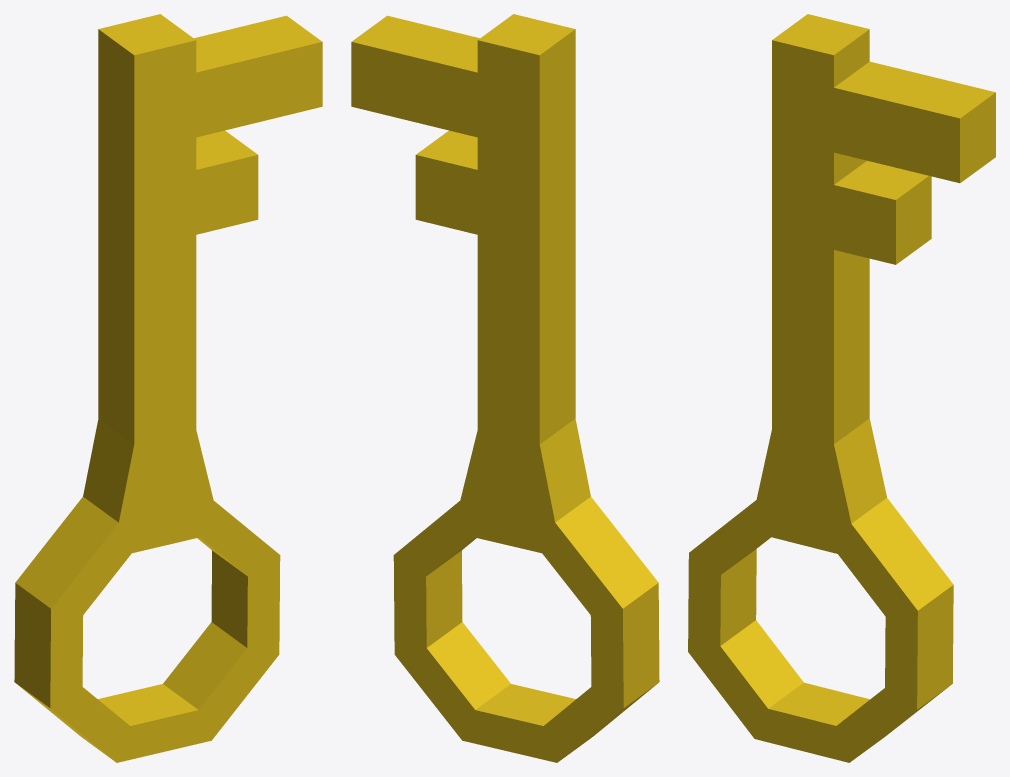
File: Key.fbx
The picture shows the model from 3 angles, left to right: view 1: azimuth 30°, elevation 25°; view 2: azimuth 150°, elevation 25°; view 3: azimuth 330°, elevation 25°; orthographic projection.
Visible parts, largest first — view 1: Key; view 2: Key; view 3: Key.
Boxes of the visible parts, x1=… form: Key: x1=14, y1=14, x2=322, y2=762; Key: x1=351, y1=14, x2=659, y2=762; Key: x1=688, y1=14, x2=995, y2=762.
Size of the model in its own units: 439 by 1085 by 100.
